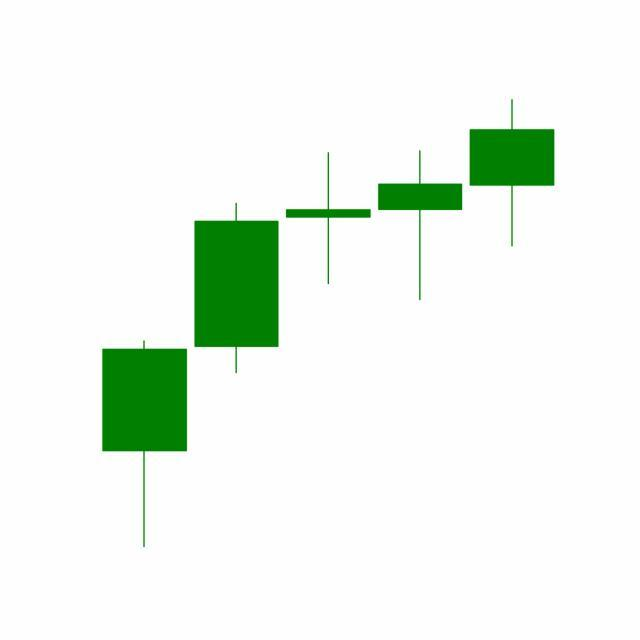Advance Block: (190, 149, 467, 377)
